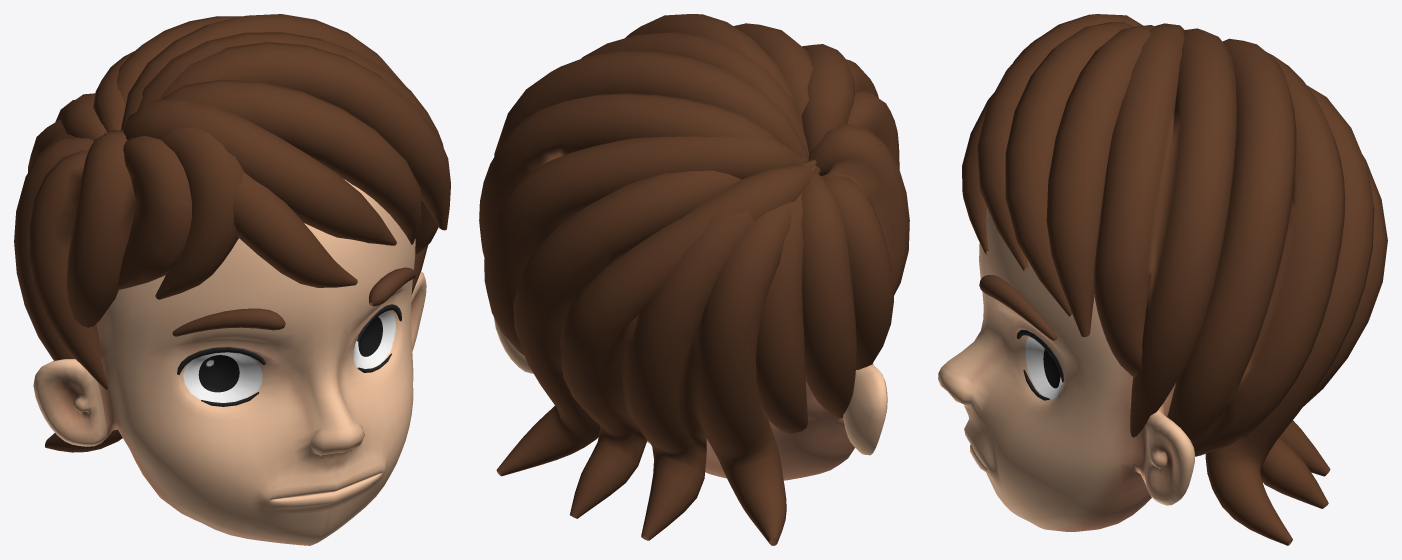
Rendered from Kid.glb.
The picture shows the model from 3 angles, left to right: view 1: azimuth 30°, elevation 25°; view 2: azimuth 150°, elevation 25°; view 3: azimuth 270°, elevation 25°; orthographic projection. The views are drawn at different scales.
Visible parts, largest first — view 1: BézierCurve.010, Cube.001, Cube.003; view 2: BézierCurve.010, Cube.001; view 3: BézierCurve.010, Cube.001.
Boxes of the visible parts, bbox=[...] form: BézierCurve.010: bbox=[14, 14, 450, 452]; Cube.001: bbox=[33, 179, 426, 545]; Cube.003: bbox=[177, 304, 401, 374]; BézierCurve.010: bbox=[479, 14, 909, 545]; Cube.001: bbox=[494, 317, 887, 480]; BézierCurve.010: bbox=[962, 14, 1387, 545]; Cube.001: bbox=[938, 208, 1194, 531].
Size of the model in its own units: 0.479 by 0.5414 by 0.4585.
Materials: 2 (2 with a texture image).
